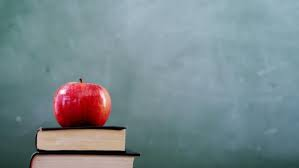apple: (54, 83, 111, 127)
